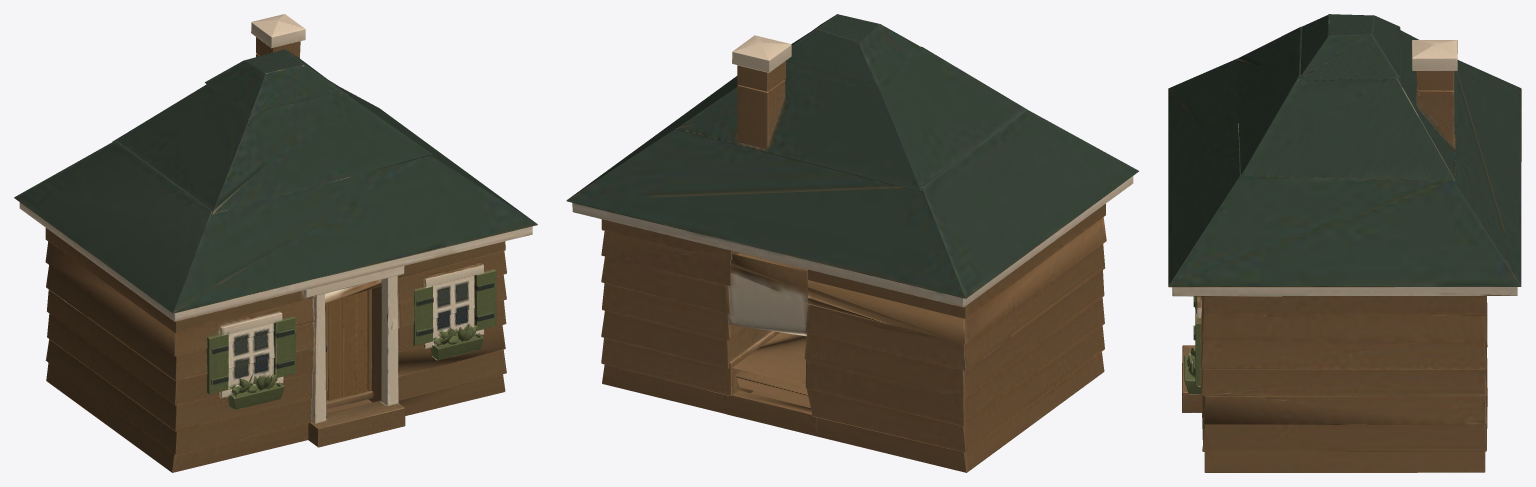
Rendered from AW-VAR-BUILD-002-v0.2.glb.
3 renders of one model, left to right at view 1: azimuth 30°, elevation 25°; view 2: azimuth 150°, elevation 25°; view 3: azimuth 270°, elevation 25°, orthographic. The views are drawn at different scales.
Visible parts, largest first — view 1: AW-VAR-BUILD-002_meter_ground_pivot; view 2: AW-VAR-BUILD-002_meter_ground_pivot; view 3: AW-VAR-BUILD-002_meter_ground_pivot.
Part boxes in pixels (x1,y1,x2,y2): AW-VAR-BUILD-002_meter_ground_pivot: (14,14,537,472); AW-VAR-BUILD-002_meter_ground_pivot: (566,14,1138,472); AW-VAR-BUILD-002_meter_ground_pivot: (1168,14,1521,472).
Size of the model in its own units: 4.11 by 3.5 by 3.09.
1 material, 1 textured.
